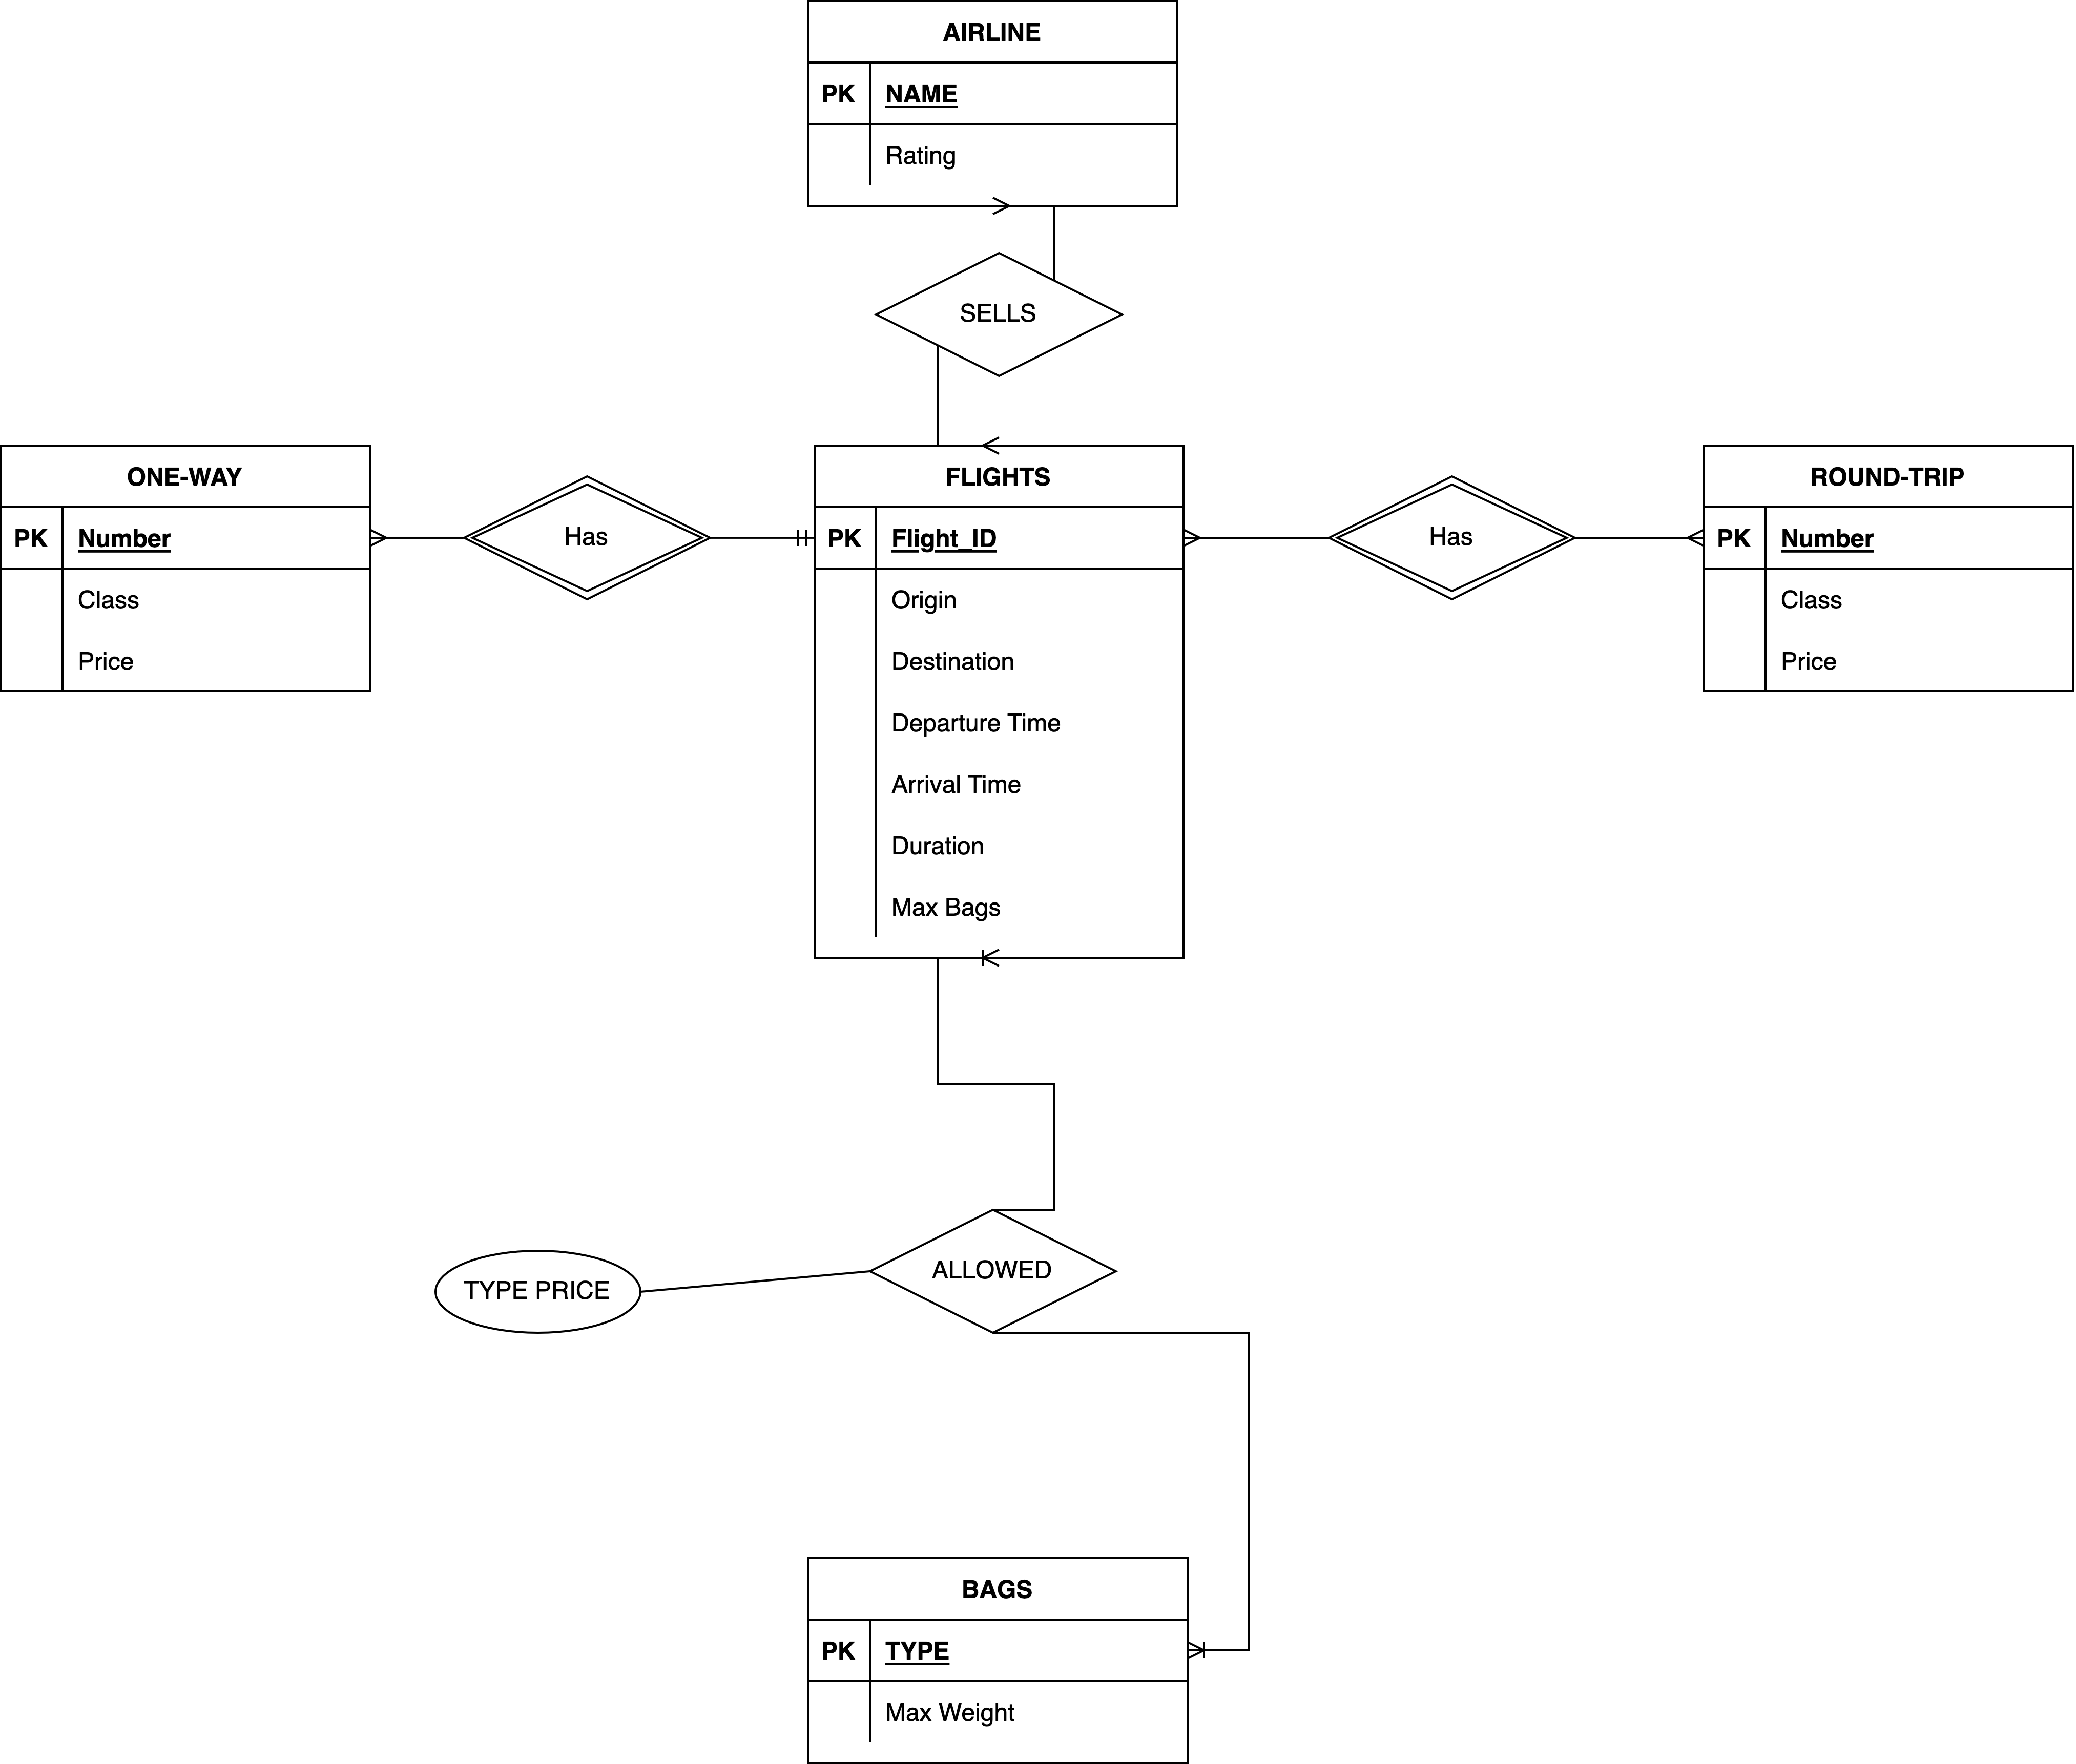entity: (810, 441, 1189, 957), (1708, 448, 2074, 689), (2, 450, 373, 688), (805, 1557, 1190, 1764), (810, 3, 1182, 205)
ident_rel: (1327, 476, 1575, 602), (457, 478, 707, 600)
many: (1596, 530, 1708, 555), (368, 523, 466, 548), (1180, 528, 1280, 549), (1187, 1638, 1250, 1668), (989, 196, 1052, 220), (942, 437, 1013, 458), (938, 950, 1010, 966)
one: (709, 527, 817, 553)
rel: (870, 1209, 1120, 1337), (877, 255, 1124, 373)
rel_attr: (438, 1251, 641, 1333)
